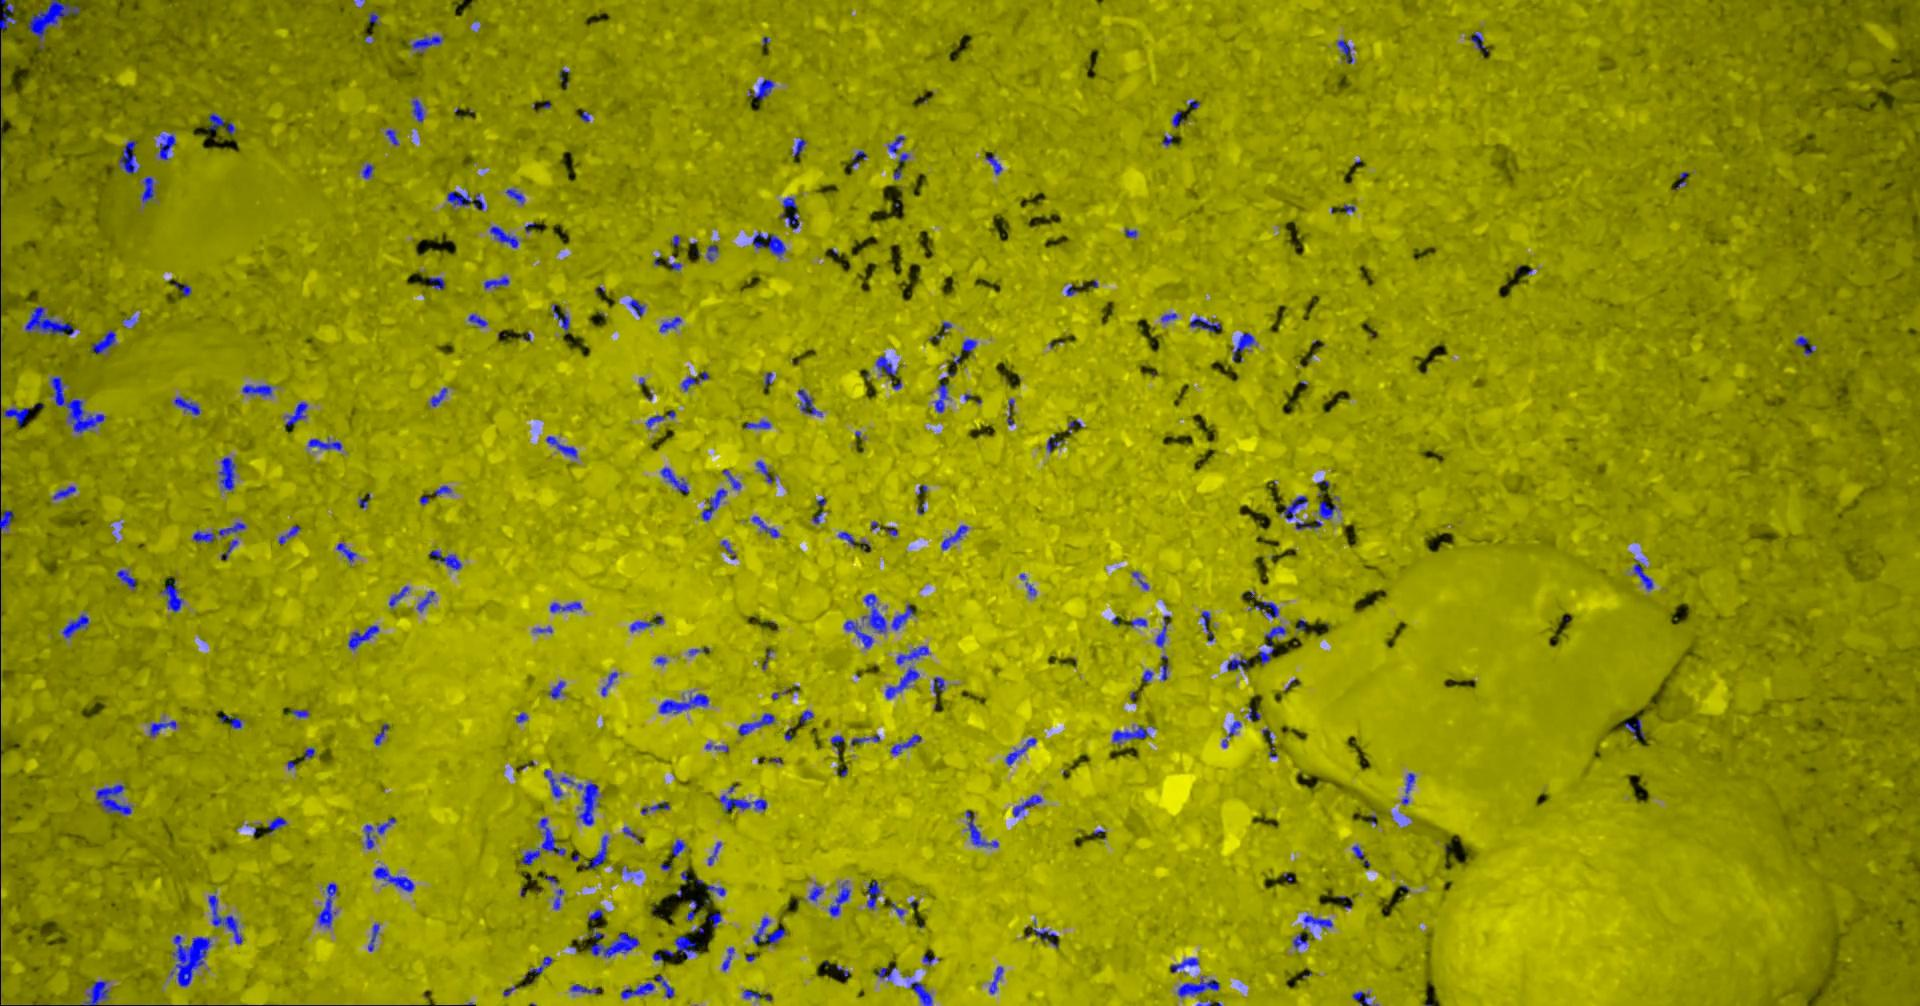ant: (545, 768, 601, 826), (51, 376, 107, 432), (29, 0, 81, 50), (521, 817, 568, 865), (171, 934, 212, 986), (863, 593, 916, 633), (210, 895, 244, 944), (590, 926, 641, 956), (25, 306, 75, 335), (622, 974, 676, 998), (1256, 625, 1288, 664), (97, 784, 133, 815), (968, 810, 999, 847), (1297, 500, 1337, 528), (886, 667, 921, 699), (194, 522, 248, 542), (366, 817, 397, 848), (375, 866, 415, 890), (660, 694, 710, 713), (1178, 976, 1222, 997), (754, 917, 789, 944), (844, 620, 875, 648), (1007, 737, 1037, 765), (319, 883, 338, 927), (739, 713, 776, 735), (754, 231, 787, 257), (585, 835, 610, 869), (720, 794, 768, 810), (703, 488, 728, 520), (161, 579, 184, 612), (1114, 725, 1150, 746), (830, 882, 852, 916), (349, 625, 380, 649), (448, 191, 486, 210), (547, 434, 579, 457), (799, 389, 824, 417), (662, 467, 690, 492), (1281, 495, 1309, 520), (430, 549, 463, 569), (1233, 332, 1256, 361), (119, 138, 138, 173), (1, 0, 18, 39), (781, 197, 801, 229), (91, 329, 117, 354), (1634, 558, 1655, 589), (891, 734, 923, 754), (63, 614, 90, 638), (84, 981, 110, 1005), (491, 225, 521, 246), (897, 645, 930, 664), (943, 525, 969, 549), (753, 514, 780, 537), (552, 304, 571, 335), (210, 112, 237, 133), (1015, 794, 1043, 815), (411, 36, 444, 53), (220, 457, 237, 490), (910, 981, 935, 1005), (749, 77, 776, 99), (631, 615, 665, 631), (1, 406, 30, 426), (286, 401, 309, 426), (683, 371, 710, 391), (676, 935, 698, 958), (1223, 720, 1242, 747), (1191, 315, 1222, 332), (157, 133, 177, 159), (175, 398, 201, 415), (1157, 615, 1171, 647), (1403, 772, 1417, 804), (877, 354, 899, 375), (757, 460, 776, 483), (279, 525, 302, 544), (1256, 600, 1280, 617), (602, 671, 618, 696), (390, 586, 410, 606), (1352, 845, 1371, 866), (1305, 915, 1335, 929), (151, 720, 178, 735), (1173, 956, 1200, 972), (1338, 39, 1355, 64), (530, 956, 554, 973), (309, 438, 343, 450), (936, 384, 950, 412), (869, 880, 883, 908), (1470, 30, 1490, 51), (1796, 335, 1816, 354), (243, 384, 273, 396), (337, 542, 357, 561), (118, 569, 137, 589), (1625, 719, 1646, 738), (418, 589, 436, 611), (375, 723, 391, 746), (990, 967, 1004, 993), (1, 509, 17, 533), (551, 601, 583, 612), (724, 469, 742, 489), (643, 801, 670, 814), (1354, 991, 1379, 1005), (660, 316, 683, 332), (985, 155, 1003, 174), (143, 177, 156, 203), (430, 387, 448, 406), (269, 815, 288, 833), (1034, 927, 1058, 941), (222, 539, 239, 559), (852, 734, 881, 746), (485, 276, 510, 288), (571, 983, 603, 993), (55, 485, 77, 499), (709, 842, 723, 865), (370, 923, 381, 951), (723, 948, 737, 970), (1048, 434, 1065, 452), (507, 188, 526, 205), (550, 680, 566, 699), (723, 539, 738, 559), (221, 714, 243, 728), (889, 135, 905, 152), (630, 298, 646, 316), (413, 98, 425, 121), (1228, 657, 1251, 669), (654, 948, 676, 960), (470, 312, 489, 326), (175, 282, 193, 296), (877, 967, 897, 979), (745, 419, 772, 428), (673, 840, 687, 856), (810, 884, 824, 901), (1294, 934, 1310, 948), (795, 137, 808, 155), (648, 414, 665, 427), (555, 888, 565, 909), (935, 676, 946, 695), (709, 884, 728, 895), (706, 742, 730, 751), (841, 531, 856, 545), (1173, 111, 1186, 127), (433, 485, 453, 495), (801, 709, 815, 723), (387, 130, 400, 145), (430, 277, 446, 290), (963, 338, 978, 351), (710, 912, 723, 927), (690, 899, 698, 921), (1162, 655, 1170, 680), (363, 163, 375, 178), (590, 908, 604, 920), (745, 989, 763, 998), (709, 245, 719, 260), (1131, 617, 1148, 626), (293, 709, 311, 716)
